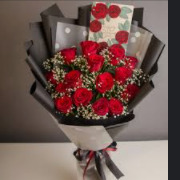RedRose: (73, 87, 94, 107), (79, 39, 98, 60), (64, 70, 83, 88), (59, 47, 77, 66), (92, 96, 109, 116), (54, 96, 73, 113), (87, 53, 103, 73), (109, 96, 124, 117), (115, 66, 132, 84), (97, 74, 111, 92)
